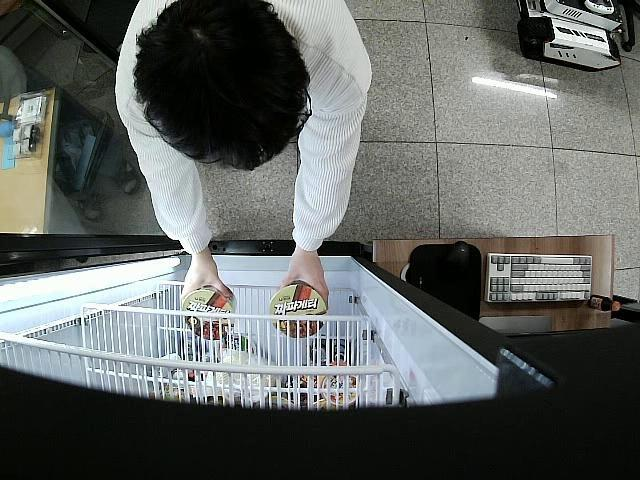03_chapagetti_L: (268, 282, 326, 338), (183, 285, 238, 340)
